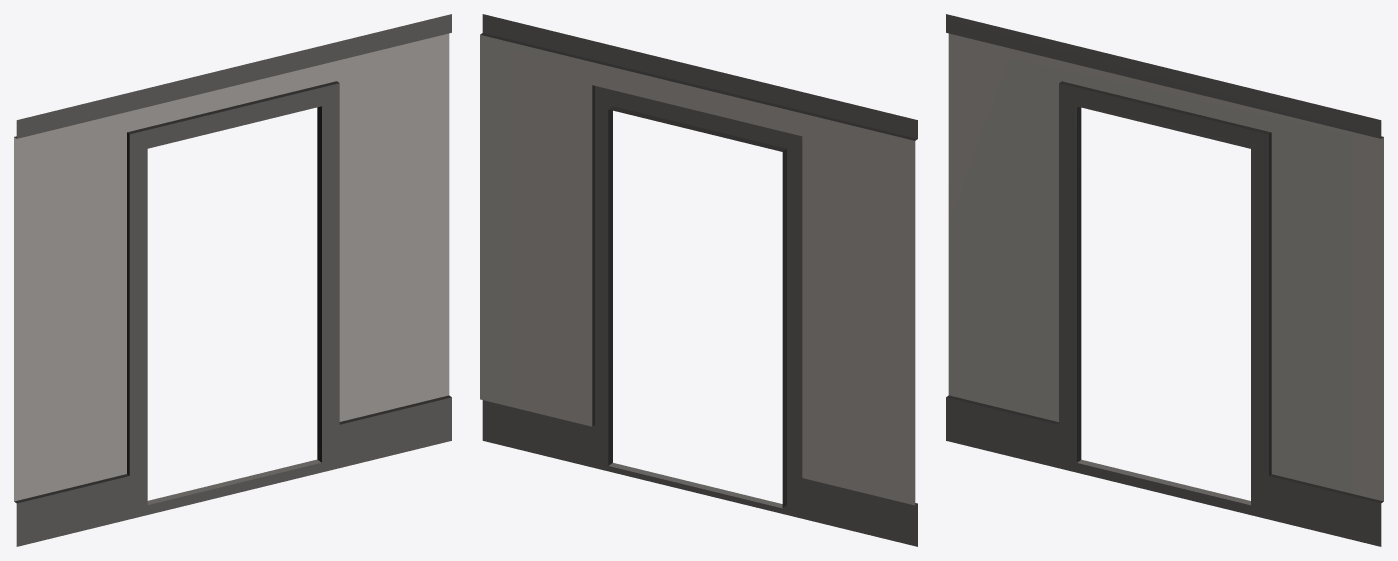
Rendered from Wall3.FBX.
The picture shows the model from 3 angles, left to right: view 1: azimuth 30°, elevation 25°; view 2: azimuth 150°, elevation 25°; view 3: azimuth 330°, elevation 25°; orthographic projection.
Parts seen in each view (by area): view 1: SM_Wall_Door_01; view 2: SM_Wall_Door_01; view 3: SM_Wall_Door_01.
Part boxes in pixels (<box>): SM_Wall_Door_01: <box>14,14,451,546</box>; SM_Wall_Door_01: <box>480,14,917,546</box>; SM_Wall_Door_01: <box>946,14,1383,546</box>.
Size of the model in its own units: 197 by 184 by 3.48.
